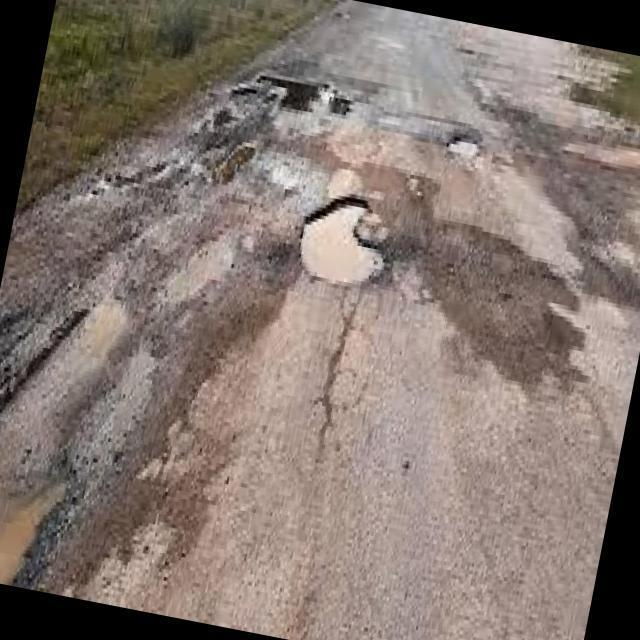Pothole: (298, 196, 386, 288), (0, 499, 48, 586), (197, 138, 259, 188), (258, 76, 326, 115), (429, 123, 483, 164)
